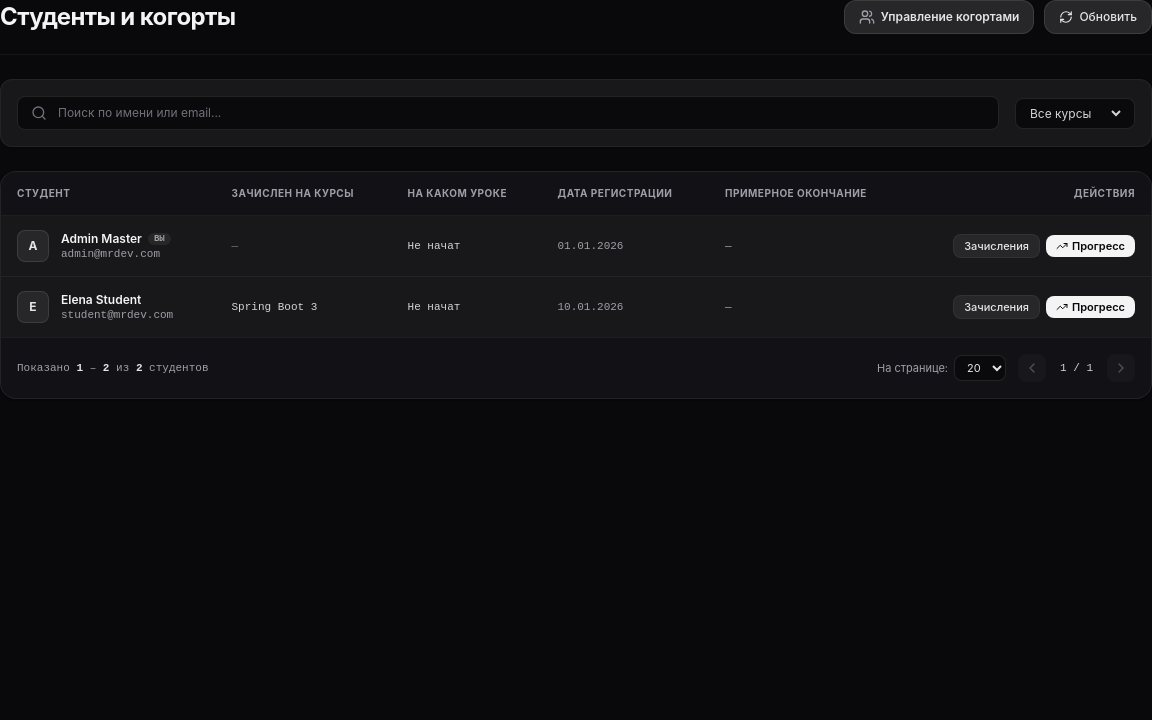
Test case: AdminStudentsPage › renders student console header, table, and opens cohort modal
Expected: the heading "Студенты и когорты" is shown, 0,1 -> 236,33
Expected: the text "admin@mrdev.com" is shown, 61,247 -> 171,261
# Open Cohort Modal
Click the button "Управление когортами".
click(939, 17)  # box 844,0 -> 1034,34
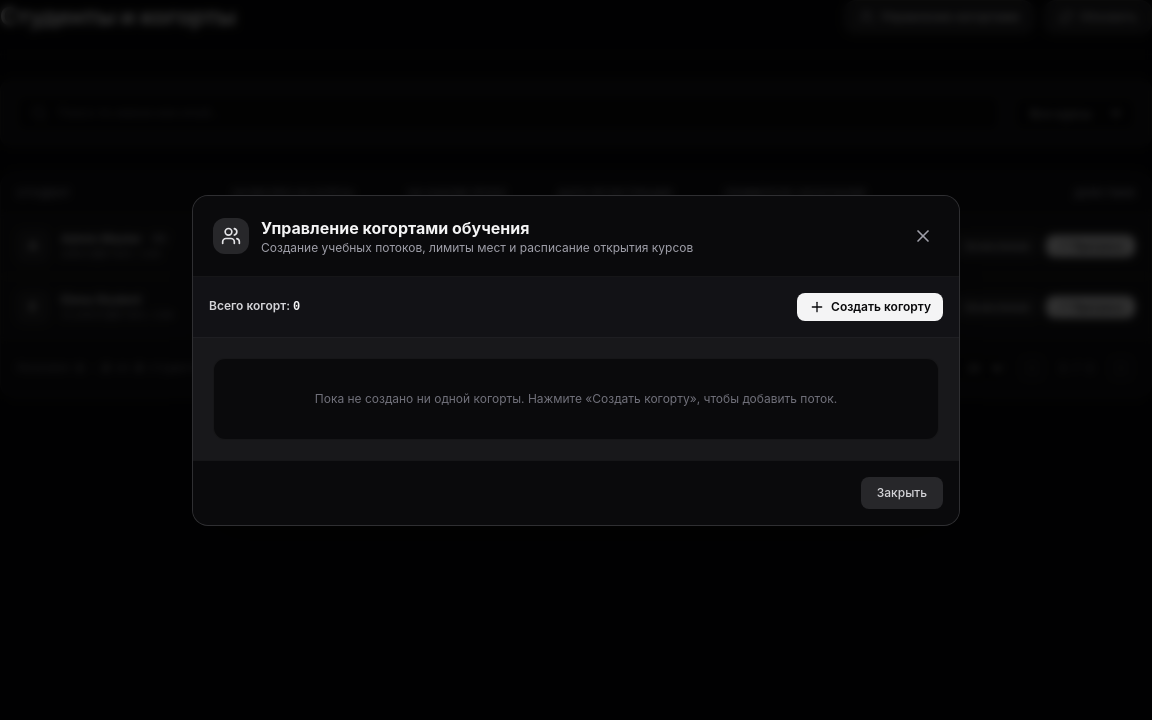
Expected: the heading "Управление когортами обучения" is shown, 261,218 -> 530,238
